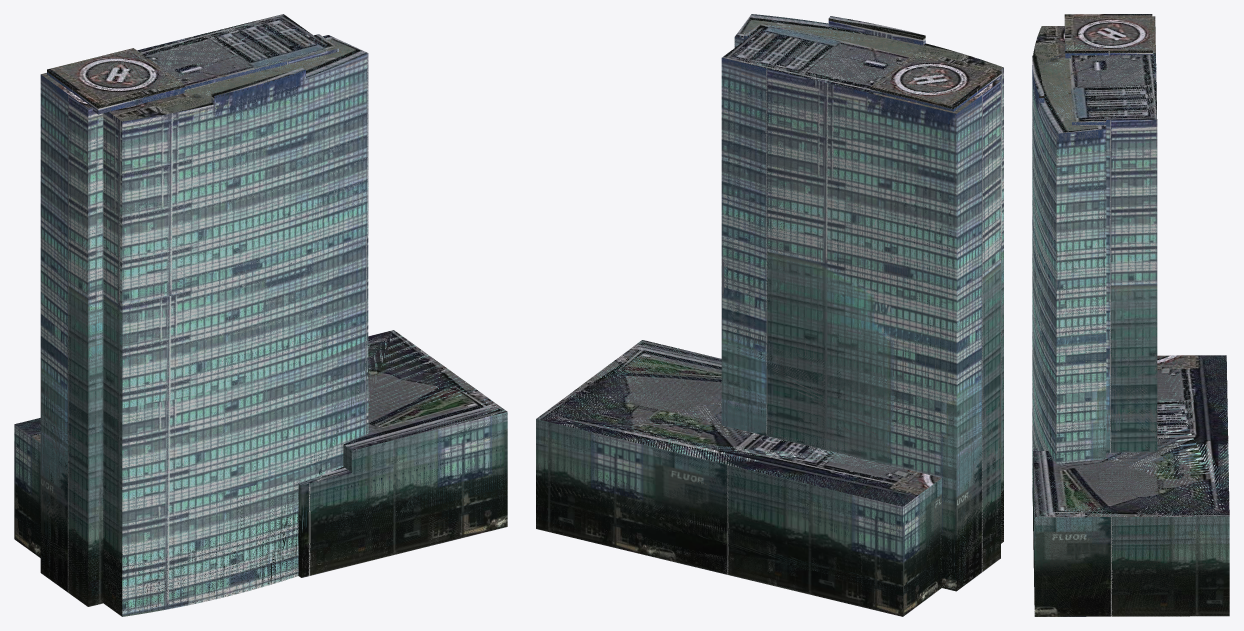
File: CBD1.fbx
3 views of the same model, side by side, from view 1: azimuth 30°, elevation 25°; view 2: azimuth 150°, elevation 25°; view 3: azimuth 270°, elevation 25° (orthographic). The views are drawn at different scales.
Parts seen in each view (by area): view 1: Group1; view 2: Group1; view 3: Group1.
Part boxes in pixels (x1,y1,x2,y2): Group1: [14, 14, 507, 616]; Group1: [536, 14, 1003, 616]; Group1: [1032, 14, 1229, 616].
Size of the model in its own units: 3078 by 3726 by 1525.
